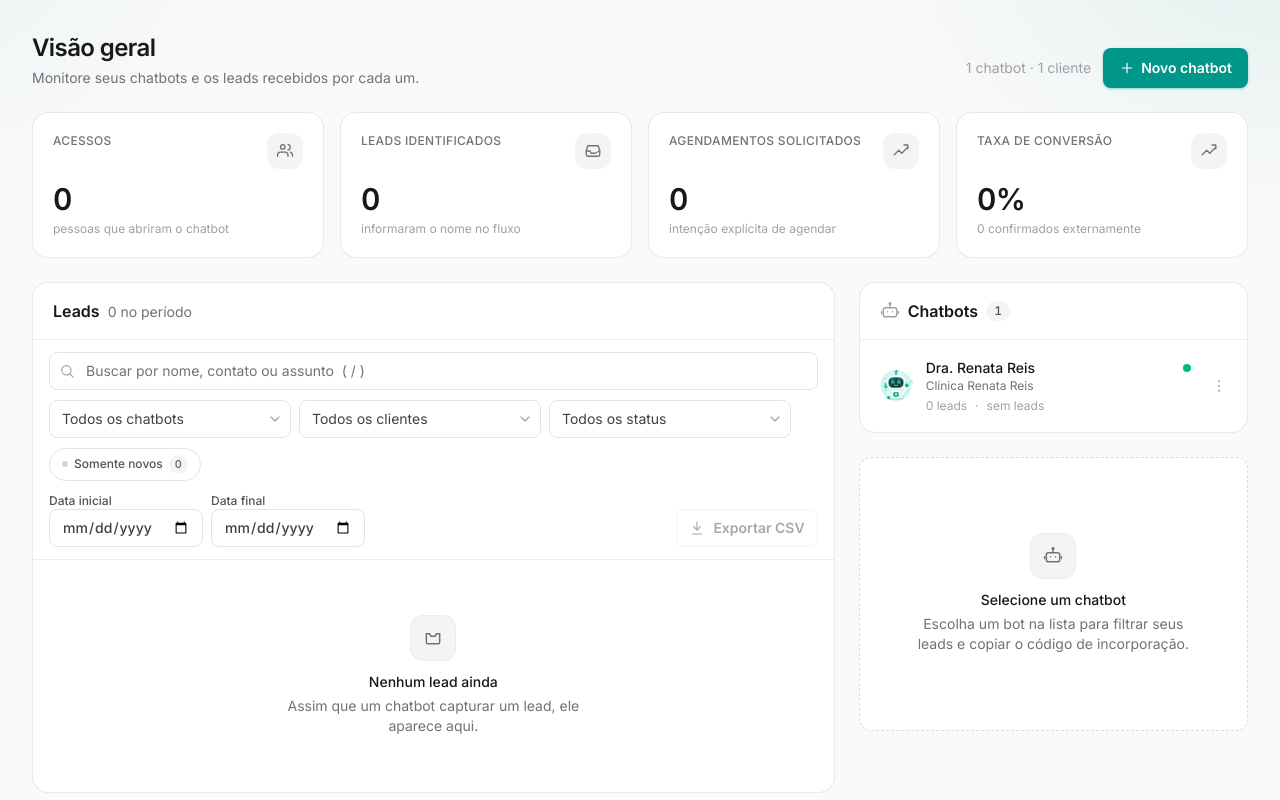
Test: DashboardHome — menu de ações do chatbot › keeps test, report and duplicate actions for non-editable server bots
Click the button named "Ações de Dra. Renata Reis".
click(1219, 386)  # box [1203, 370, 1235, 402]
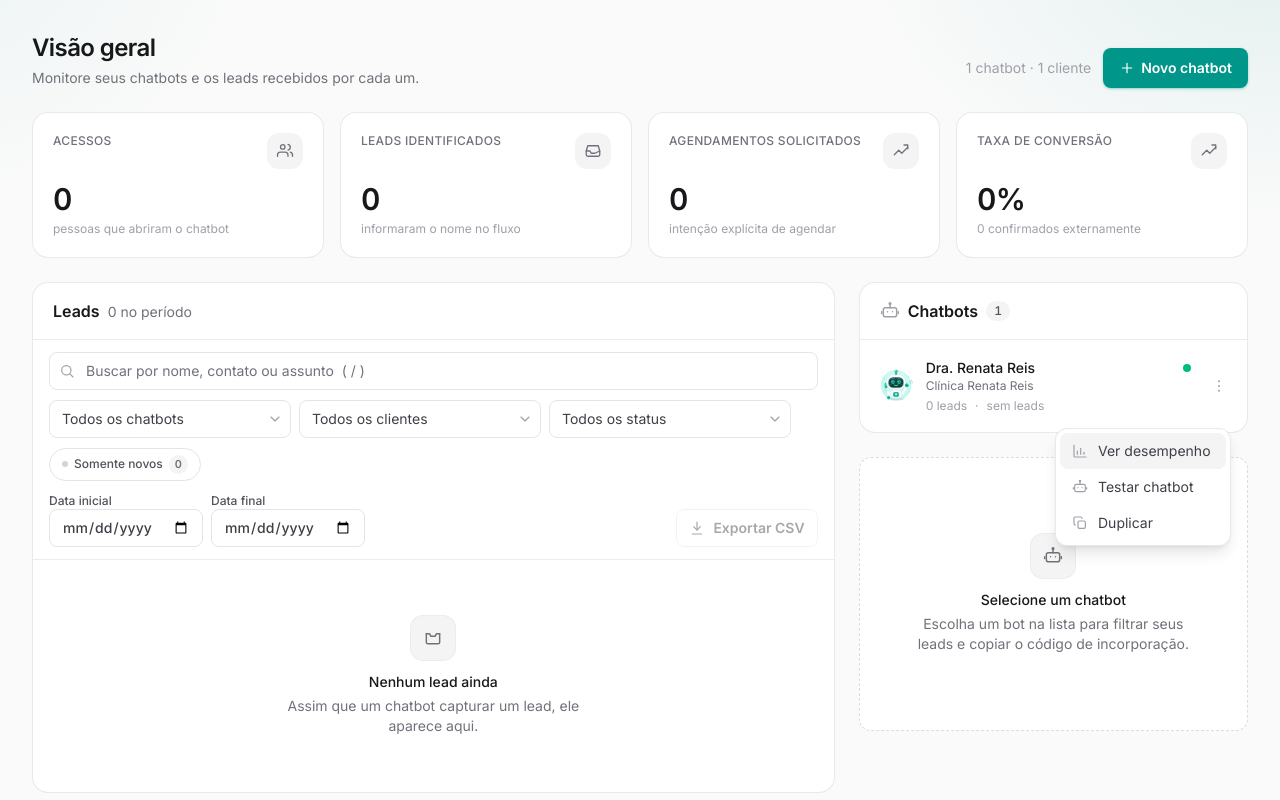
Now the menu item "Duplicar" is shown, box [1060, 505, 1226, 541]
Now the menu item "Testar chatbot" is shown, box [1060, 469, 1226, 505]
